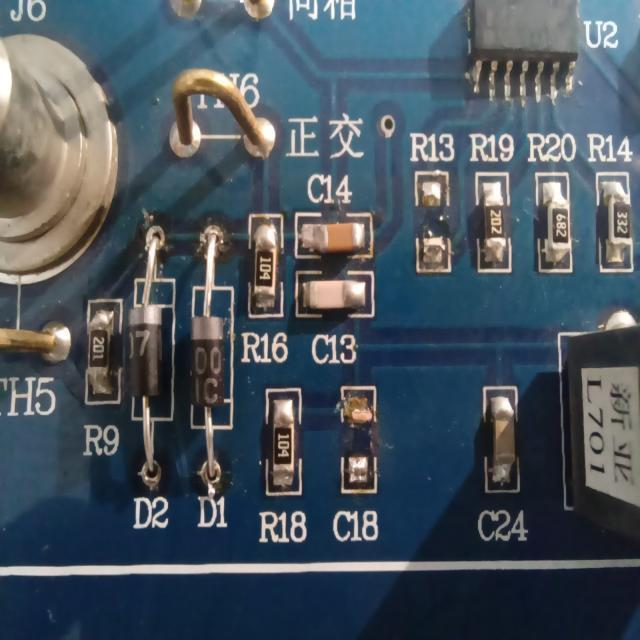Missing component: (402, 114, 460, 294), (332, 374, 387, 544)
